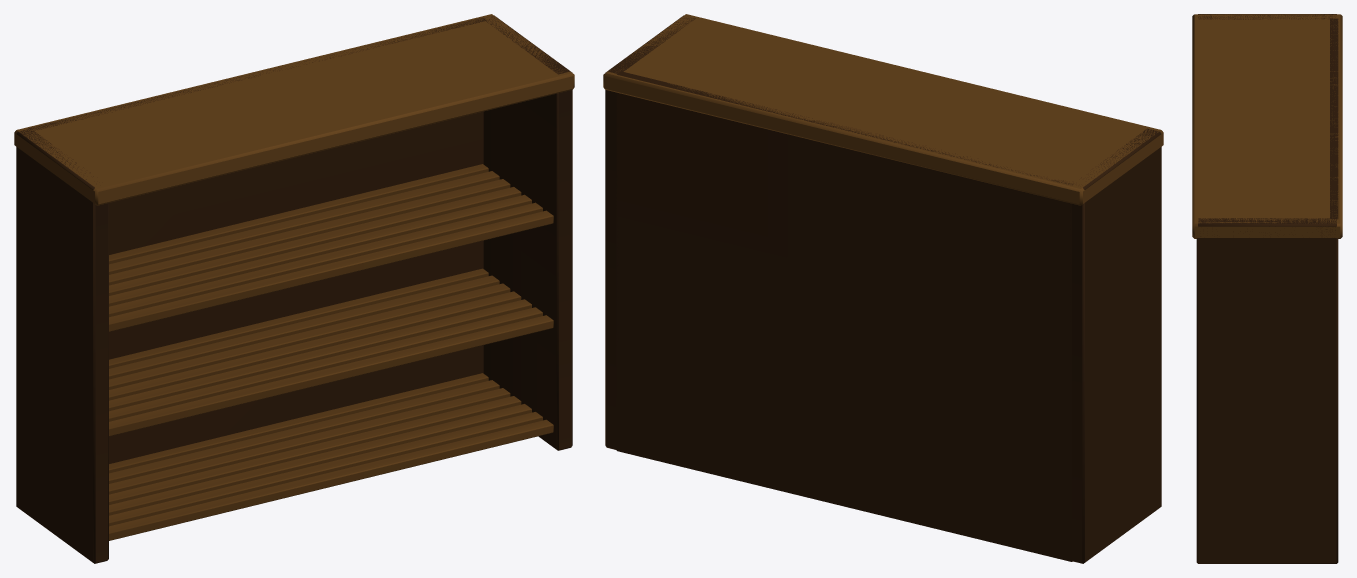
File: school-shoe-cabinet.glb
3 renders of one model, left to right at view 1: azimuth 30°, elevation 25°; view 2: azimuth 150°, elevation 25°; view 3: azimuth 270°, elevation 25°, orthographic. The views are drawn at different scales.
Visible parts, largest first — view 1: cabinet__wood; view 2: cabinet__wood; view 3: cabinet__wood.
Part boxes in pixels (x1,y1,x2,y2): cabinet__wood: (14, 14, 574, 563); cabinet__wood: (603, 14, 1163, 563); cabinet__wood: (1192, 14, 1342, 563).
Size of the model in its own units: 1.2 by 0.9 by 0.36.
